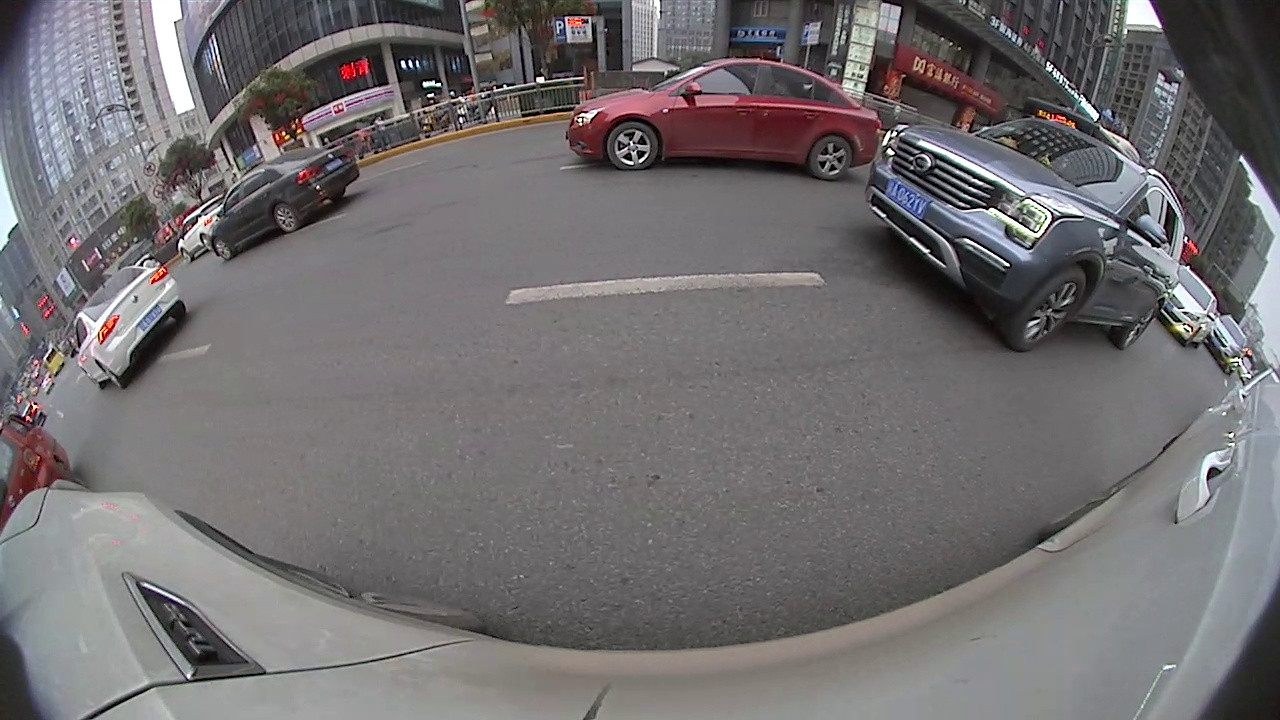car: (950, 146, 1175, 400), (738, 64, 855, 139), (1166, 341, 1234, 438), (584, 51, 658, 103)
front: (601, 82, 611, 102)
person: (334, 16, 404, 216), (508, 53, 531, 110), (312, 79, 329, 138), (486, 56, 501, 108), (238, 116, 254, 152)
rear: (975, 254, 1027, 309), (582, 79, 590, 96)
